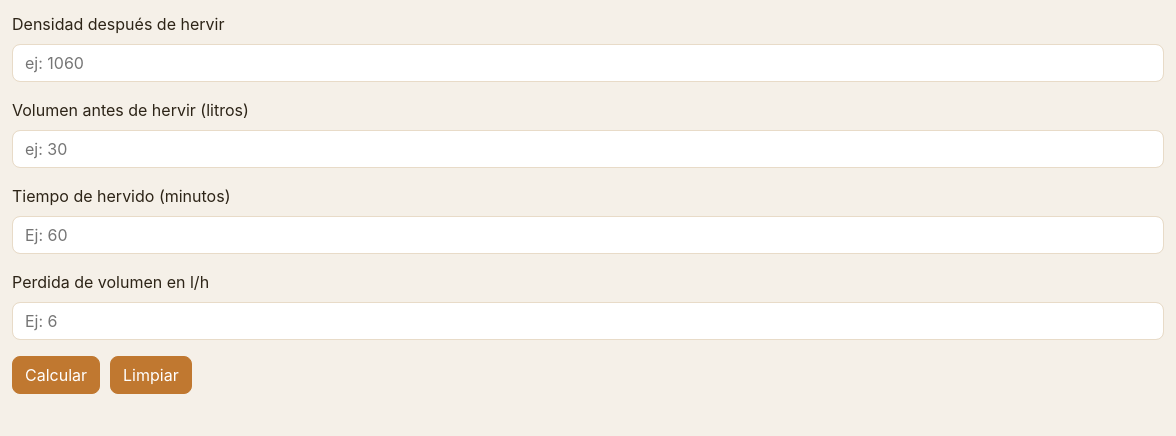
Test: InitialDensity › muestra error si la perdida de volumen está vacía
Click the button "Calcular" at (56, 375), box 12,356 -> 100,394
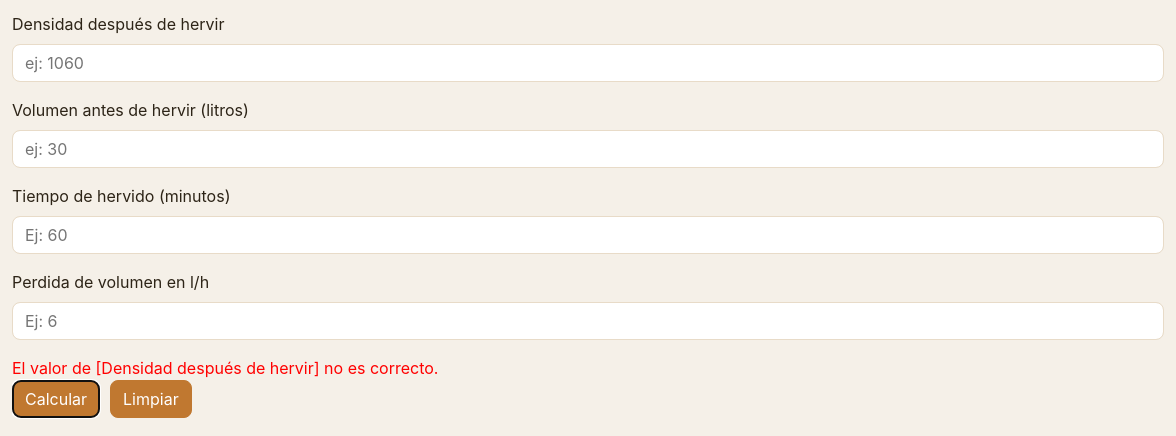
expect the message shows "Densidad después de hervir": met, box 12,358 -> 438,378
